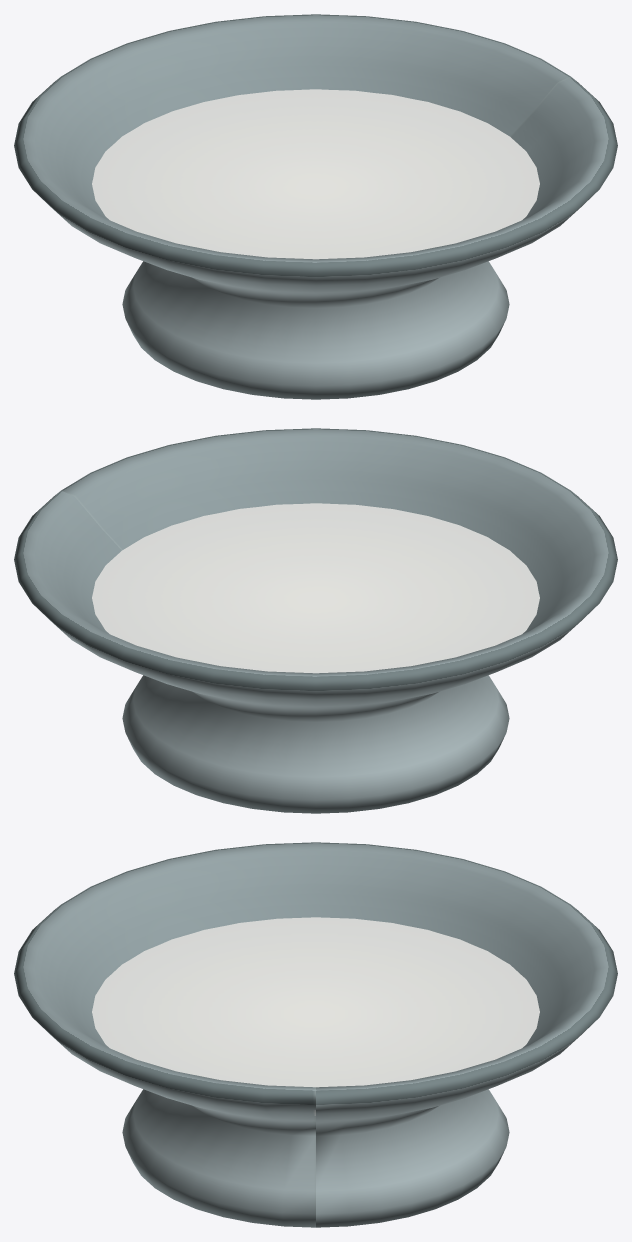
The model's file is ceramic_bowl.glb.
3 views of the same model, one above another, from view 1: azimuth 30°, elevation 25°; view 2: azimuth 150°, elevation 25°; view 3: azimuth 270°, elevation 25° (orthographic).
Parts seen in each view (by area): view 1: CeramicPetBowl; view 2: CeramicPetBowl; view 3: CeramicPetBowl.
Part boxes in pixels (bbox=[...]): CeramicPetBowl: bbox=[14, 14, 617, 399]; CeramicPetBowl: bbox=[14, 428, 617, 813]; CeramicPetBowl: bbox=[14, 842, 617, 1227].
Size of the model in its own units: 0.39 by 0.13 by 0.39.
Materials: 2 (2 with a texture image).
